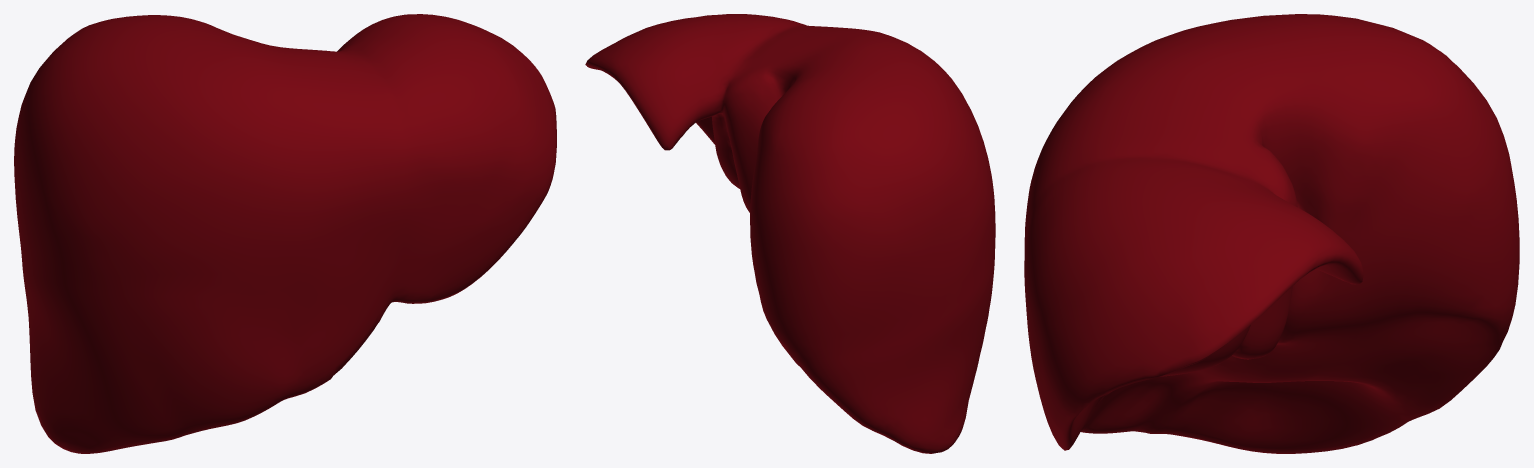
Rendered from Liver_New.glb.
3 renders of one model, left to right at view 1: azimuth 30°, elevation 25°; view 2: azimuth 150°, elevation 25°; view 3: azimuth 270°, elevation 25°, orthographic. The views are drawn at different scales.
Visible parts, largest first — view 1: Liver; view 2: Liver; view 3: Liver.
Boxes of the visible parts, x1,y1,x2,y2 form: Liver: (14, 14, 556, 453); Liver: (585, 14, 995, 453); Liver: (1024, 14, 1519, 453).
Size of the model in its own units: 0.2247 by 0.1811 by 0.1668.
